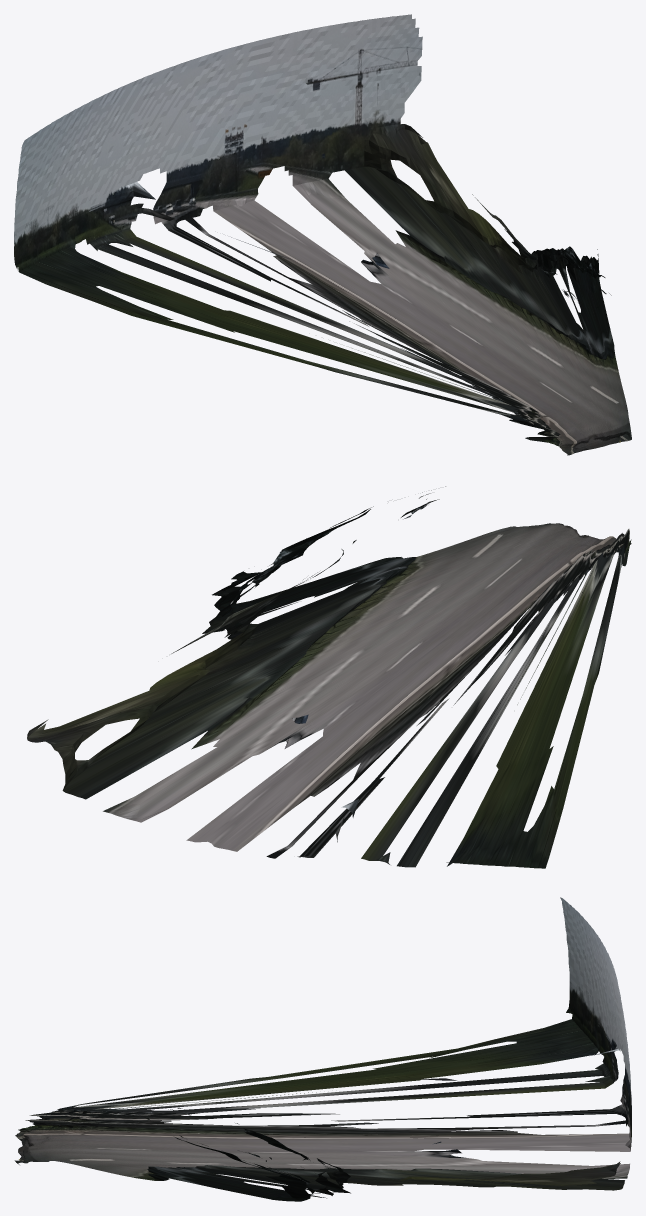
The picture shows the model from 3 angles, top to bottom: view 1: azimuth 30°, elevation 25°; view 2: azimuth 150°, elevation 25°; view 3: azimuth 270°, elevation 25°; orthographic projection. The views are drawn at different scales.
Parts seen in each view (by area): view 1: defaultobject; view 2: defaultobject; view 3: defaultobject.
Boxes of the visible parts, x1,y1,x2,y2 form: defaultobject: [14, 14, 631, 455]; defaultobject: [27, 486, 631, 868]; defaultobject: [14, 897, 631, 1201].
Bounding box in the file's own units: 32.63 × 11.95 × 44.59.
Materials: 1 (1 with a texture image).
